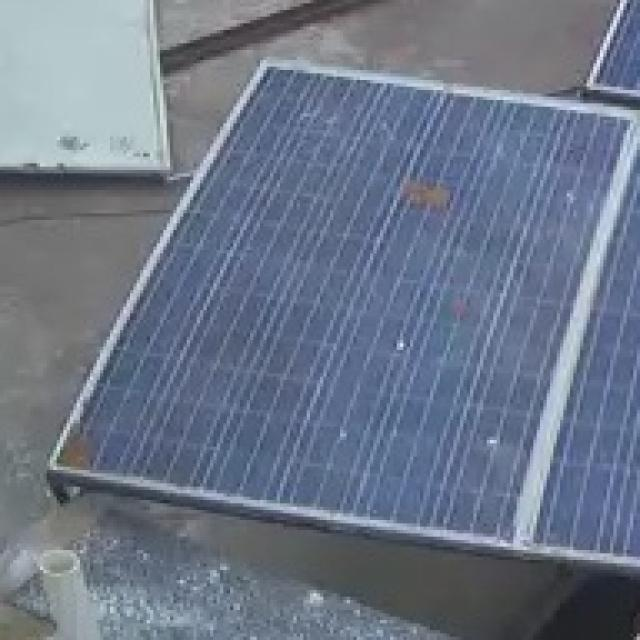Bird-drop: (476, 430, 506, 460), (561, 187, 591, 216), (386, 335, 419, 360), (334, 428, 351, 451)
Dusty: (393, 171, 456, 219), (63, 438, 97, 468)
